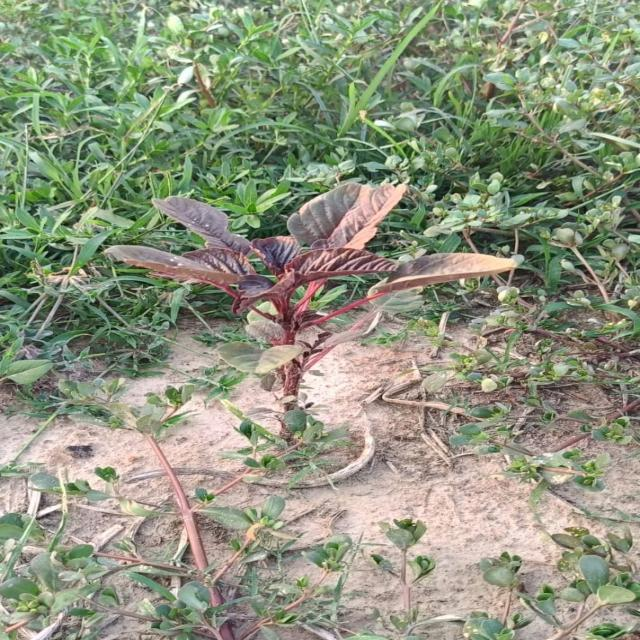plant: (104, 182, 518, 399)
